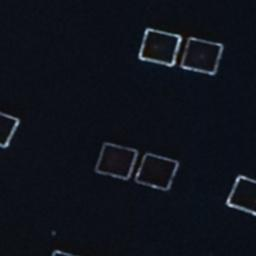square_solid: (131, 147, 185, 198), (135, 23, 187, 71), (174, 33, 227, 80), (91, 138, 142, 185), (219, 168, 256, 220), (1, 102, 27, 155)
